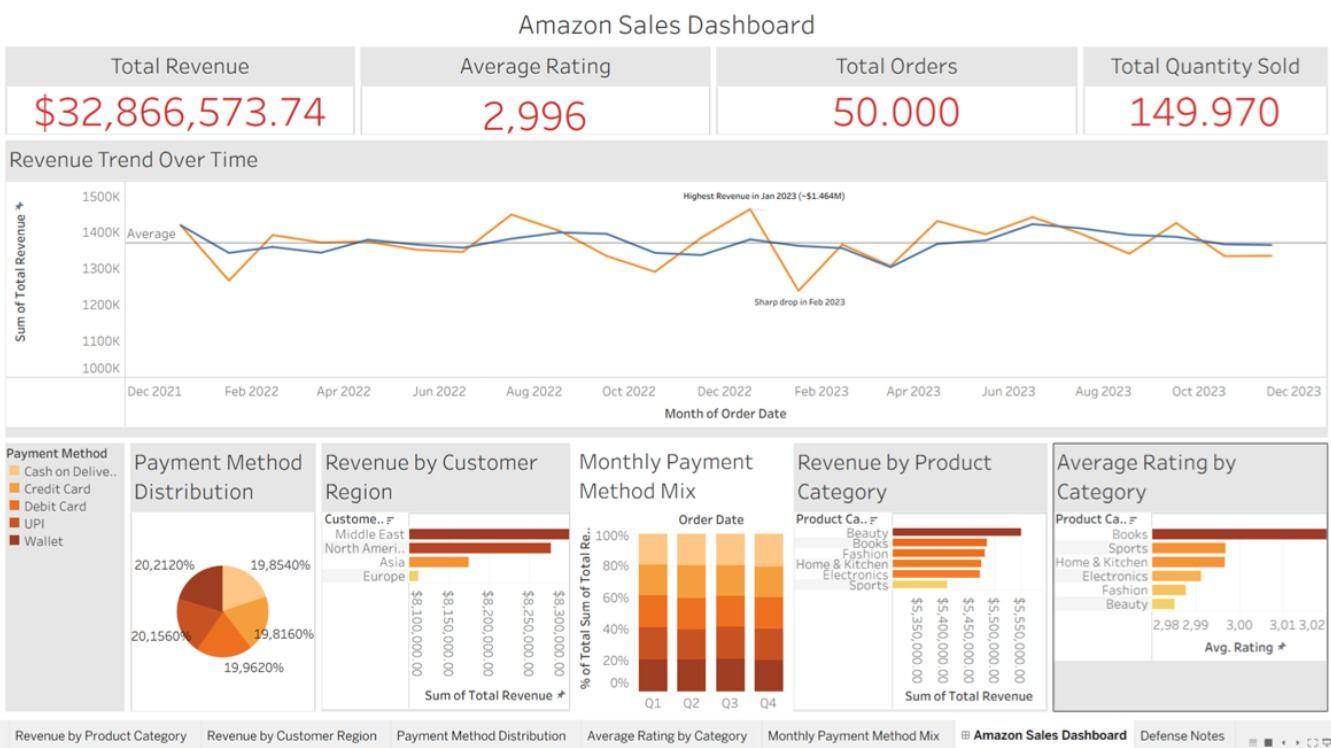

This screenshot's page, from the dashboard's own definition file:
{"tool":"tableau","page":{"name":"Amazon Sales Dashboard","canvas":[1000,1000],"units":"permille","ordinal":0},"visuals":[{"type":"title","box":[5,9.9,990,72]},{"type":"worksheet","title":"Total Revenue","mark":"Text","box":[5,81.9,264.6,126.7]},{"type":"worksheet","title":"Average Rating","mark":"Text","box":[269.6,81.9,265.3,126.7]},{"type":"worksheet","title":"Total Orders","mark":"Automatic","box":[534.9,81.9,273.6,126.7]},{"type":"worksheet","title":"Total Quantity Sold","mark":"Automatic","box":[808.5,81.9,186.5,126.7]},{"type":"worksheet","title":"Revenue Trend Over Time","mark":"Line","rows":["total_revenue","total_revenue"],"cols":["order_date"],"box":[5,208.6,990,410.4]},{"type":"legend","title":"Payment Method Distribution","param":"[federated.1lg8rcs11d7l2n193l1cd0kt7ikp].[none:payment_method:nk]","box":[5,619,93.2,371]},{"type":"worksheet","title":"Payment Method Distribution","mark":"Pie","box":[98.2,619,142.5,371]},{"type":"worksheet","title":"Revenue by Customer Region","mark":"Bar","rows":["customer_region"],"cols":["total_revenue"],"box":[240.7,619,189.8,371]},{"type":"worksheet","title":"Monthly Payment Method Mix","mark":"Bar","cols":["order_date"],"box":[430.5,619,162.2,371]},{"type":"worksheet","title":"Revenue by Product Category","mark":"Bar","rows":["product_category"],"cols":["total_revenue"],"box":[592.7,619,193.4,371]},{"type":"worksheet","title":"Average Rating by Category","mark":"Bar","rows":["product_category"],"cols":["rating"],"box":[786.2,619,208.8,371]}]}

Visuals, with their boxes on the dashboard's canvas, which has no fixed pixel size, in thousandths of its width and height (x1, y1, x2, y2). These are canvas units, not pixel positions in the 1331x748 screenshot, which may show the page scaled, cropped or inside an application window:
title: left=5, top=10, right=995, bottom=82
"Total Revenue" worksheet (Text marks): left=5, top=82, right=270, bottom=209
"Average Rating" worksheet (Text marks): left=270, top=82, right=535, bottom=209
"Total Orders" worksheet: left=535, top=82, right=808, bottom=209
"Total Quantity Sold" worksheet: left=808, top=82, right=995, bottom=209
"Revenue Trend Over Time" worksheet (Line marks): left=5, top=209, right=995, bottom=619
"Payment Method Distribution" legend: left=5, top=619, right=98, bottom=990
"Payment Method Distribution" worksheet (Pie marks): left=98, top=619, right=241, bottom=990
"Revenue by Customer Region" worksheet (Bar marks): left=241, top=619, right=430, bottom=990
"Monthly Payment Method Mix" worksheet (Bar marks): left=430, top=619, right=593, bottom=990
"Revenue by Product Category" worksheet (Bar marks): left=593, top=619, right=786, bottom=990
"Average Rating by Category" worksheet (Bar marks): left=786, top=619, right=995, bottom=990
